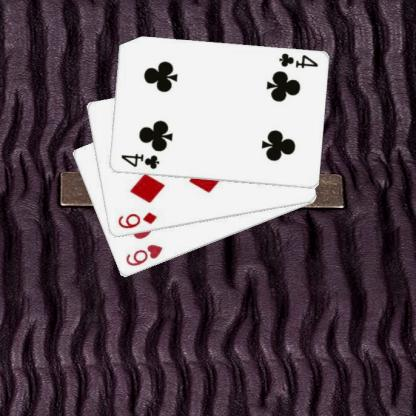4C: (275, 50, 319, 70), (118, 151, 160, 170)
6D: (115, 210, 158, 230)
6H: (122, 242, 164, 268)
